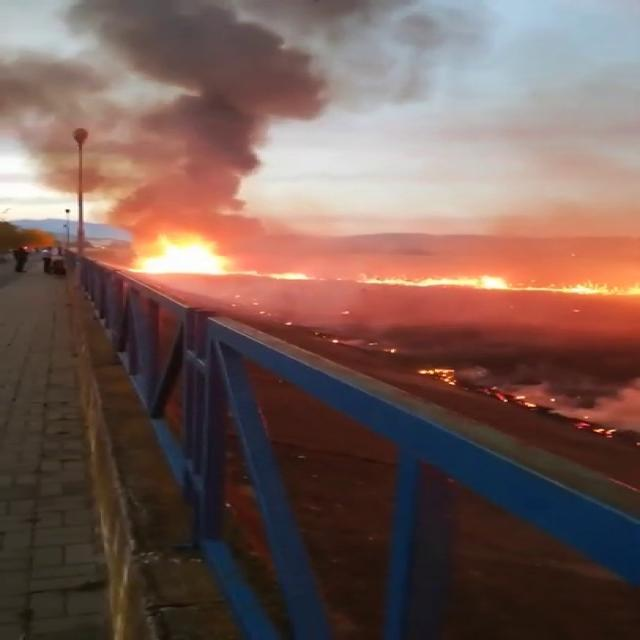Fire: (370, 265, 638, 298), (124, 227, 246, 280)
Smoke: (2, 0, 446, 222)
